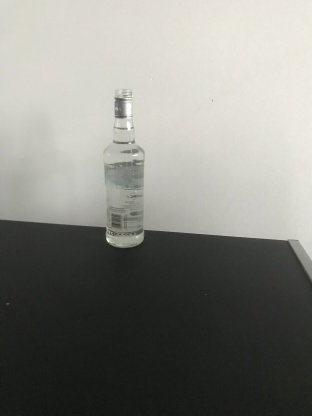nakretka: (112, 87, 134, 119)
